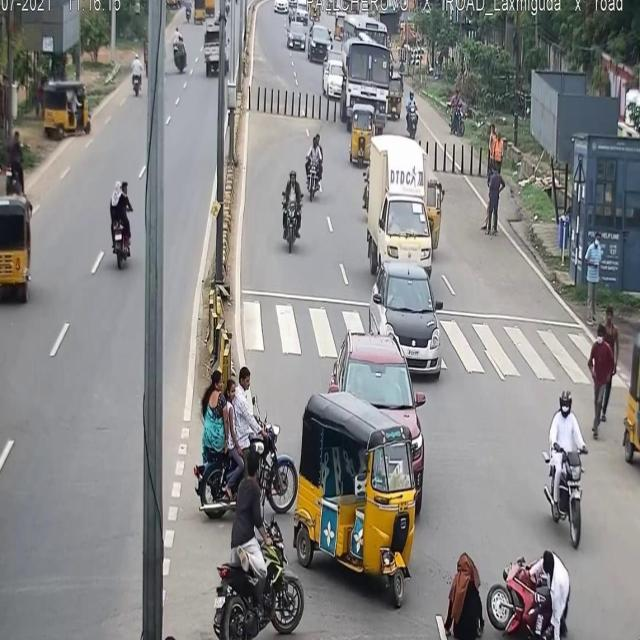accident: (431, 541, 575, 639)
non_accident: (357, 123, 445, 389), (313, 26, 411, 128), (282, 15, 334, 65), (188, 0, 219, 31)
